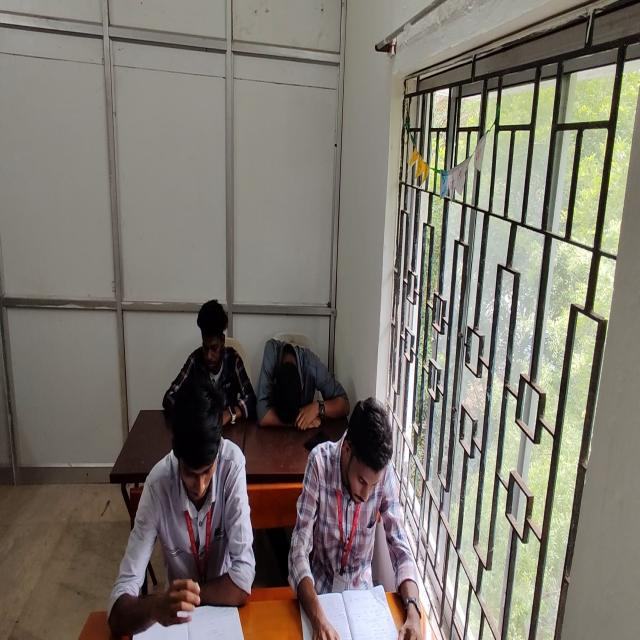reading: (109, 378, 256, 639), (290, 396, 412, 640)
sleeping: (260, 336, 348, 429)
using_mobile: (163, 298, 257, 429)
